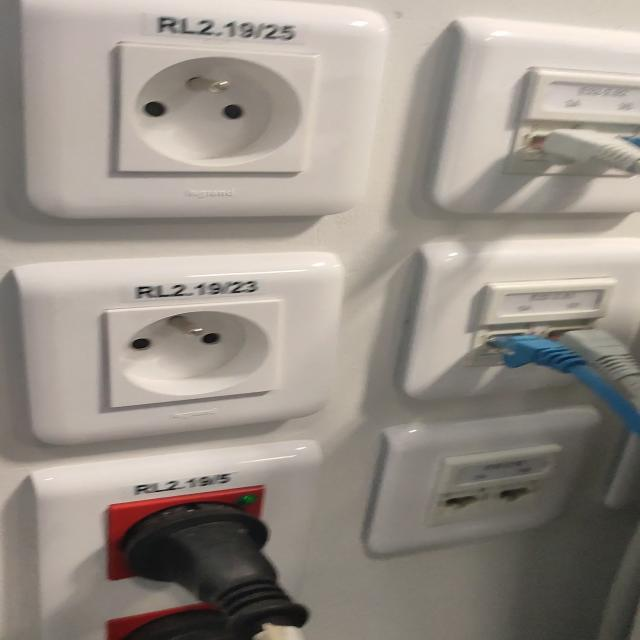house plug: (116, 41, 316, 172), (105, 298, 283, 409)
